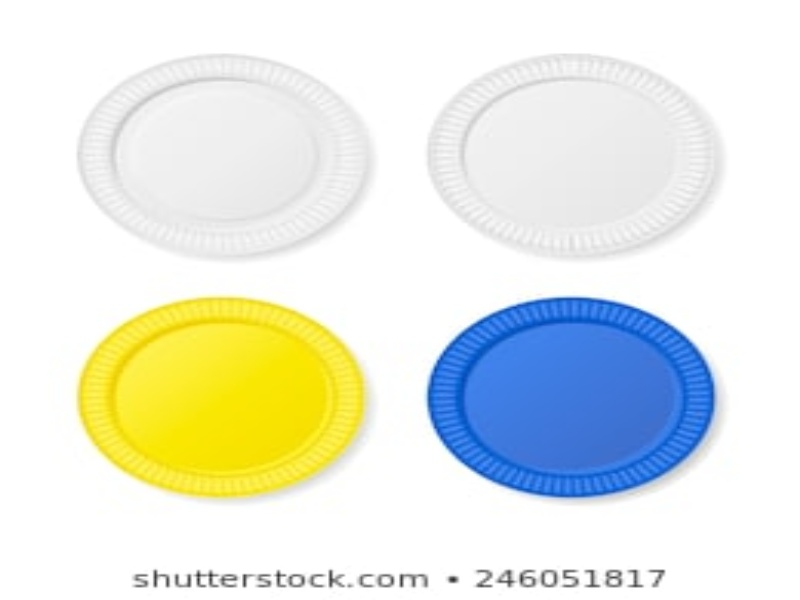plastic-plate: (71, 53, 372, 261), (425, 50, 726, 258), (72, 293, 368, 502), (426, 295, 716, 505)
